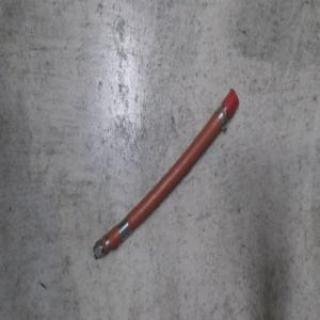Hosetrack_idkeyframe: (92, 92, 240, 264)
